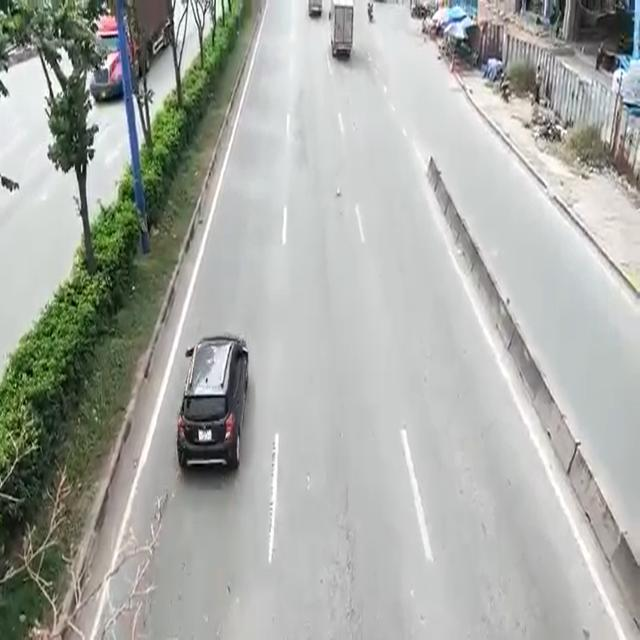car: (186, 336, 244, 478)
truck: (327, 0, 356, 63)
